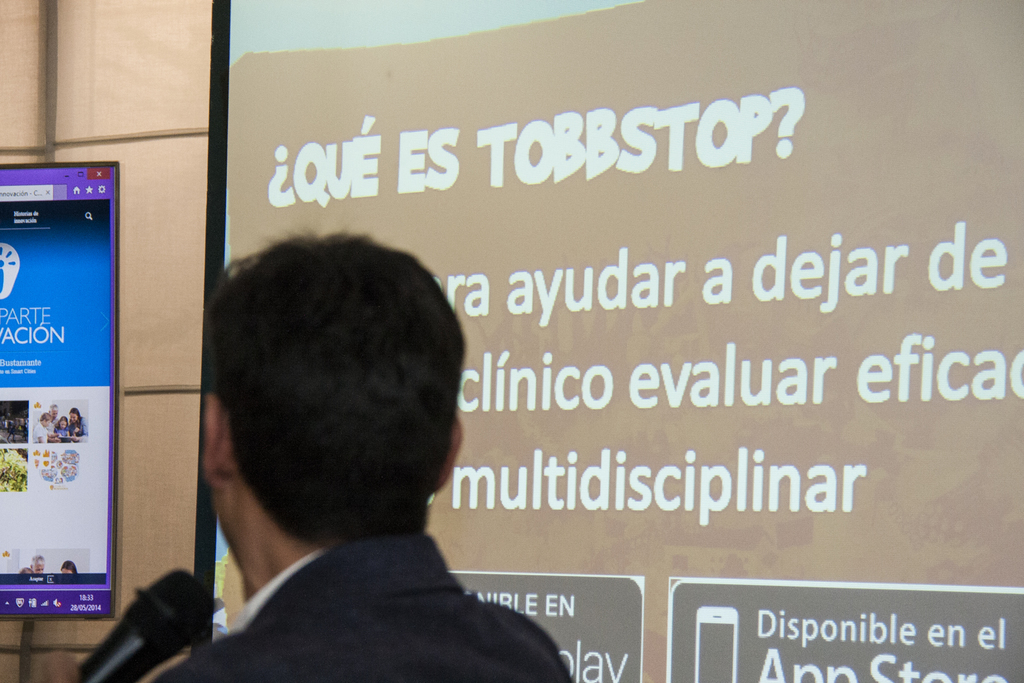Mobile-phone: (0, 156, 118, 625), (696, 607, 737, 682)
